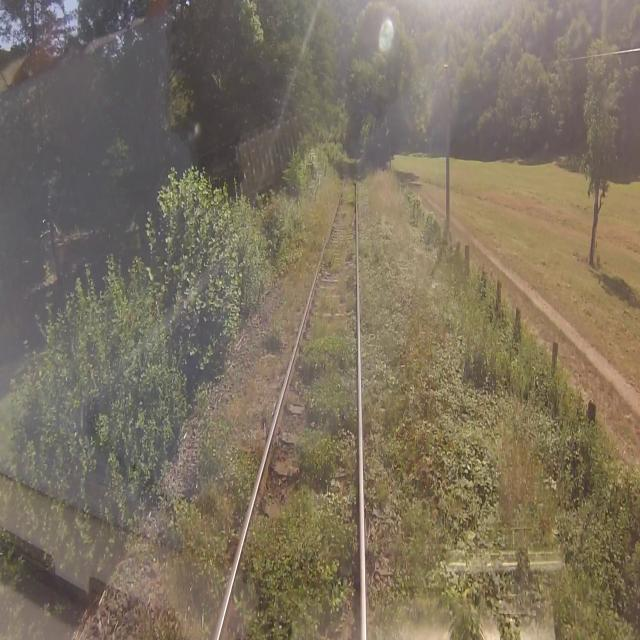Plant: (150, 159, 349, 639), (356, 159, 443, 639), (234, 314, 360, 639), (318, 175, 357, 316)
